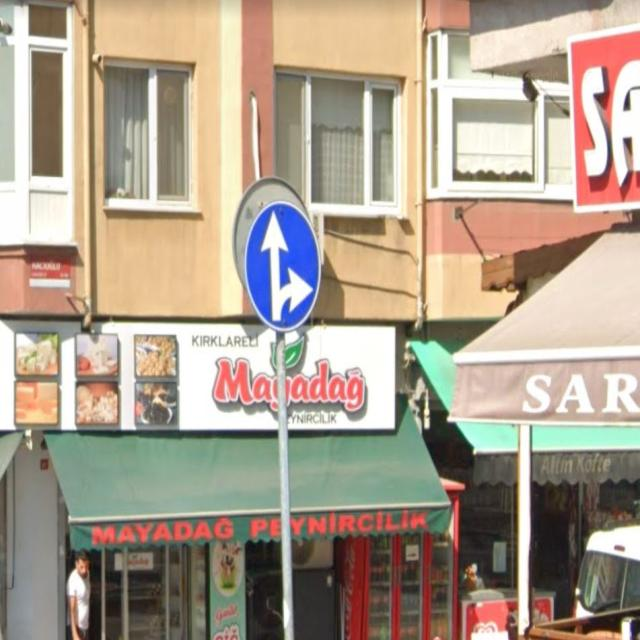ilerisag: (246, 202, 320, 330)
